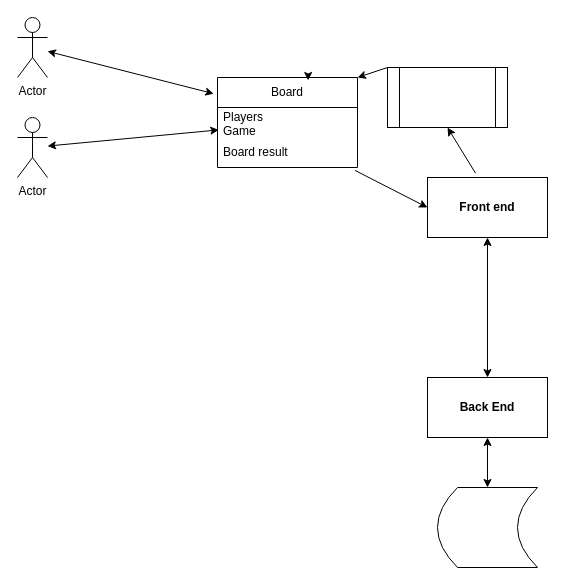
This 565x585 diagram has some shape labels left out. Here are the shapes that lost their labels. From the top down, the centre of each, then its label:
At (447,97): "Board factory concurrency?".
At (487,527): "mongo DB".
